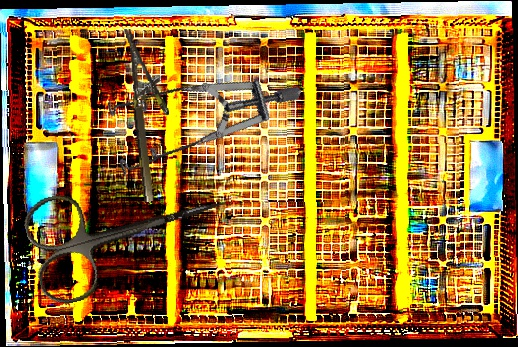Iris Scissors: (18, 152, 241, 310)
Needle Holder: (124, 25, 178, 203)
Speculum: (88, 30, 302, 222)
